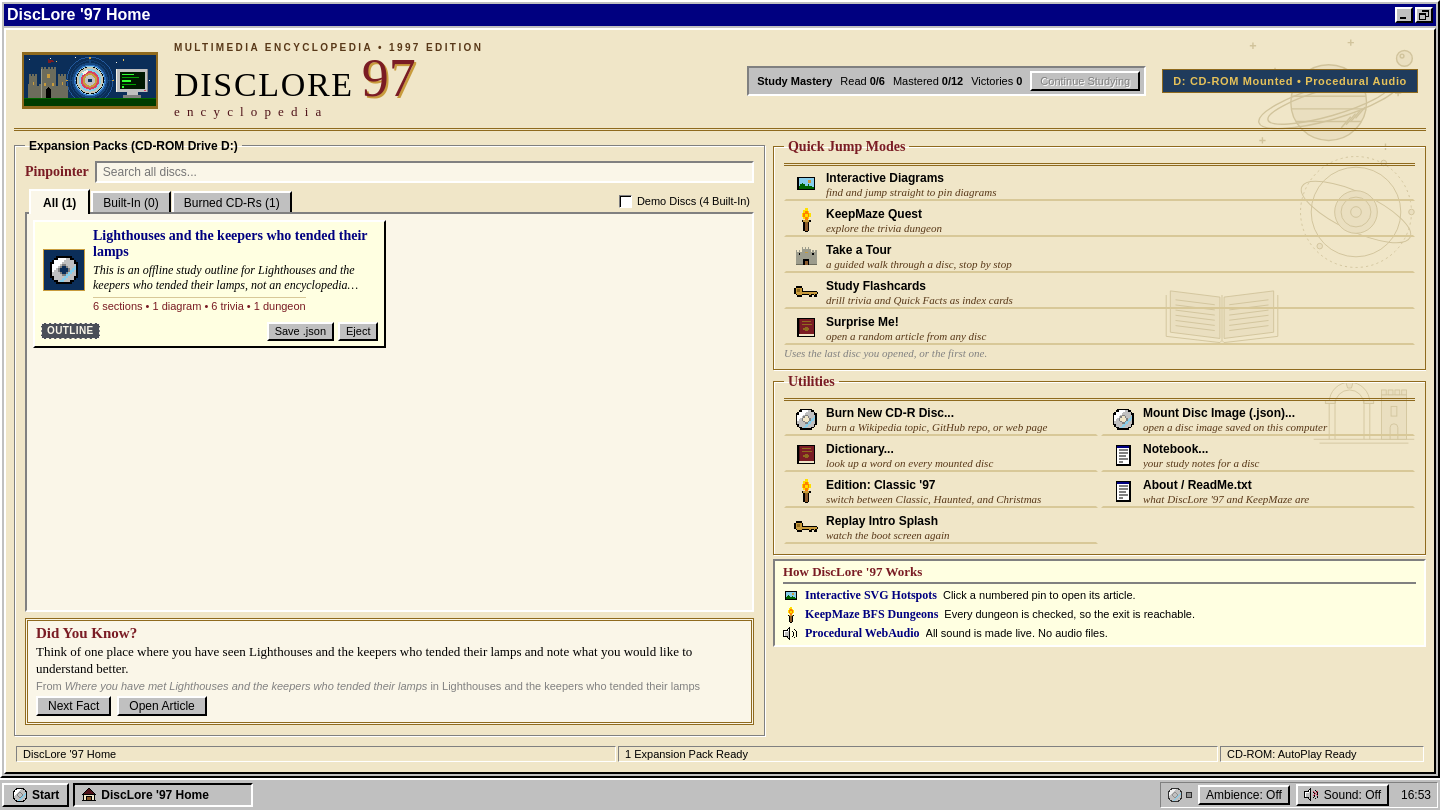
turning Demo Discs off › lists only the burned disc under Start > Mounted Discs, and offers the toggle there too
The width and height of the screenshot is (1440, 810).
Click the button with aria-label "Start menu": (36, 795) [2, 783, 69, 807]
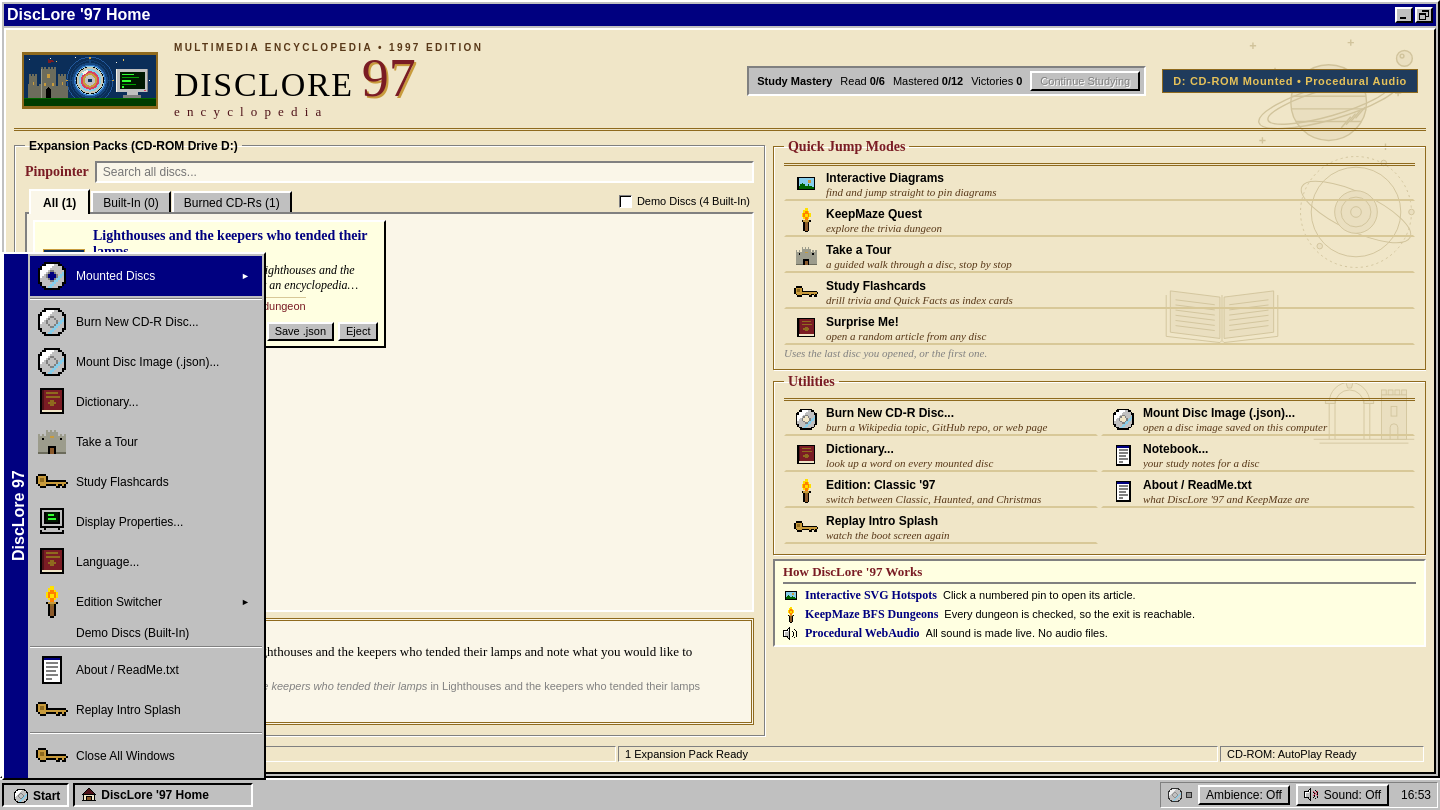
Click the menu item "Mounted Discs ►": (146, 276) [30, 256, 262, 296]
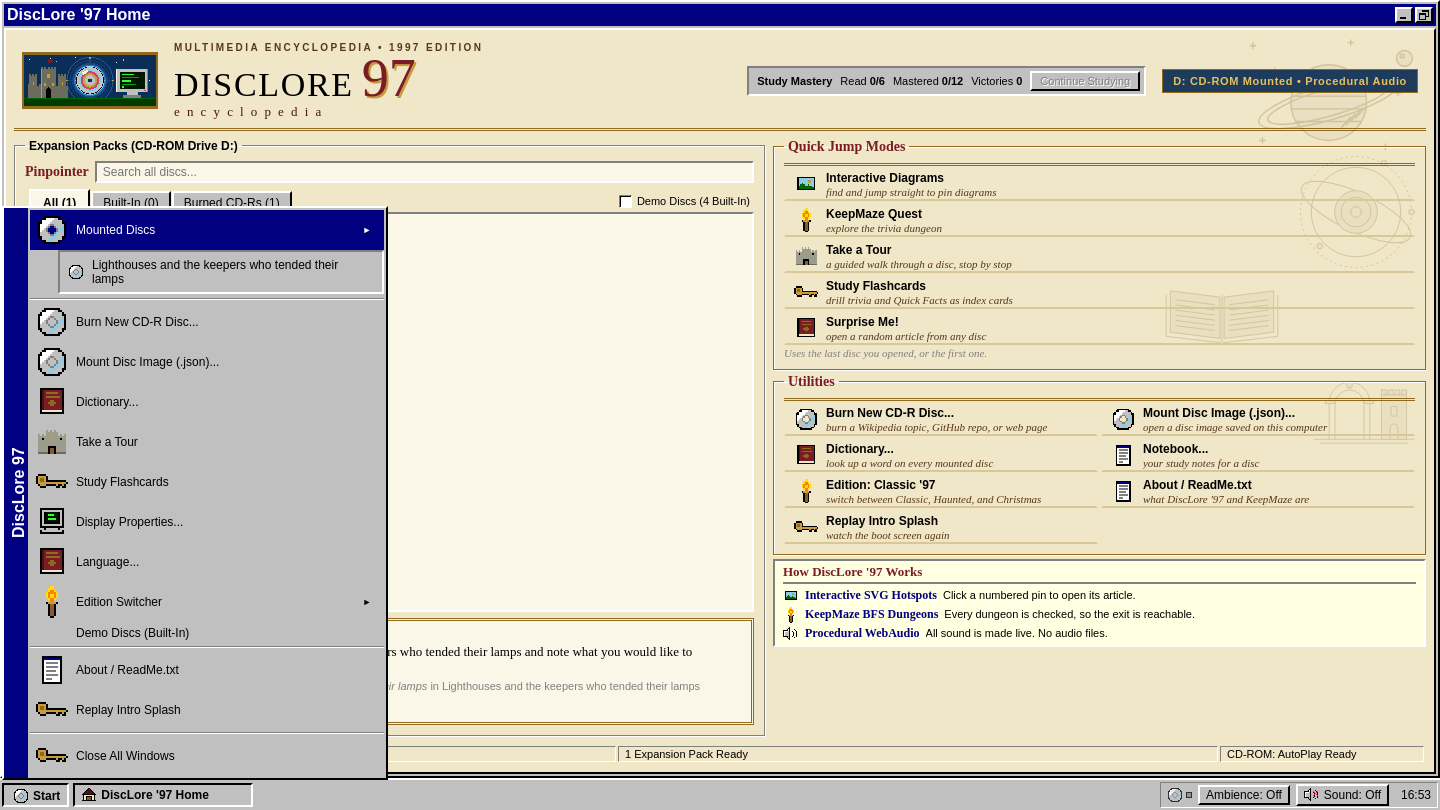
Check: the menu items read "Lighthouses and the keepers who tended their lamps", in this order, box [62, 254, 380, 290]
Turning it back on from the Start menu brings the four discs back.
Click the menu item "Demo Discs (Built-In)": (133, 633) [30, 622, 384, 644]
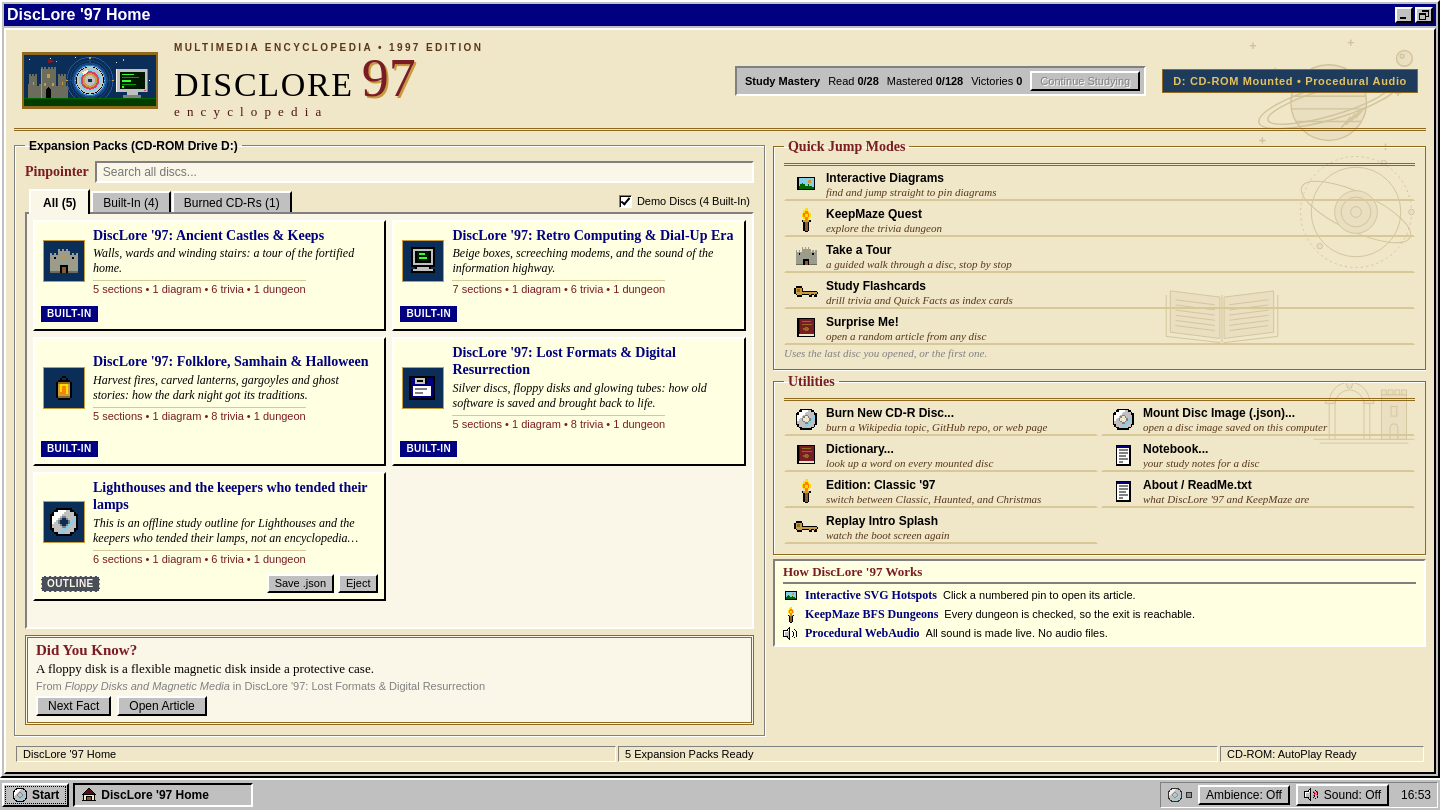
Check: the checkbox labelled "Demo Discs (4 Built-In)" is checked, box [619, 195, 632, 208]
